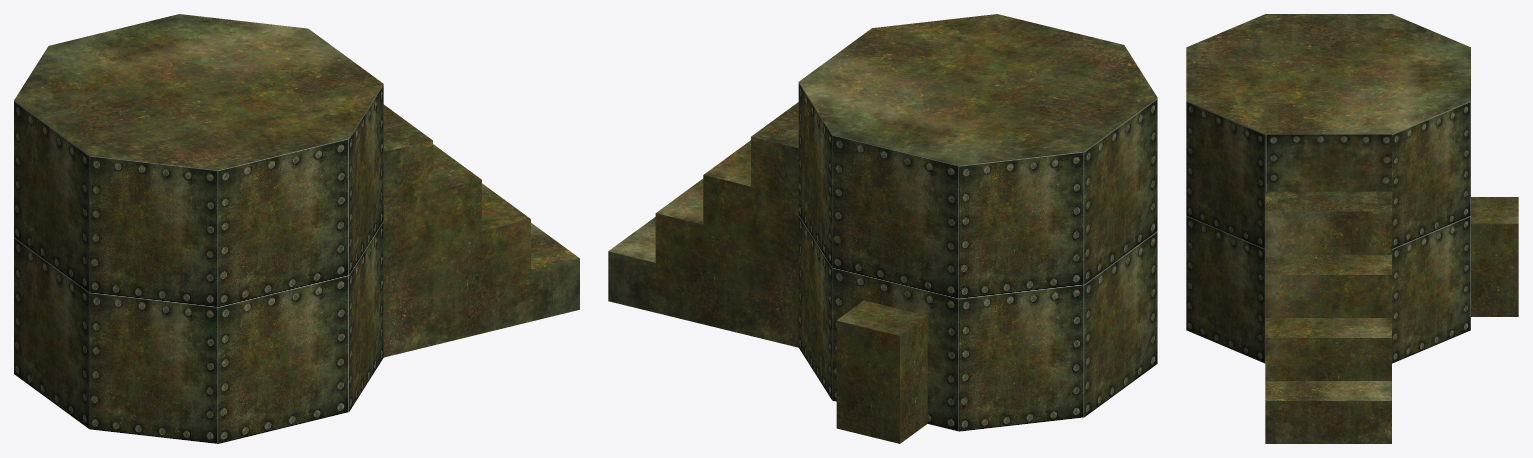
File: hell_club_stand.fbx
The picture shows the model from 3 angles, left to right: view 1: azimuth 30°, elevation 25°; view 2: azimuth 150°, elevation 25°; view 3: azimuth 270°, elevation 25°; orthographic projection. The views are drawn at different scales.
Visible parts, largest first — view 1: mesh_0; view 2: mesh_0; view 3: mesh_0.
Boxes of the visible parts, x1,y1,x2,y2 form: mesh_0: [14, 14, 579, 443]; mesh_0: [608, 14, 1157, 443]; mesh_0: [1186, 14, 1518, 443].
Bounding box in the file's own units: 300 × 160 × 210.
Materials: 1 (1 with a texture image).
